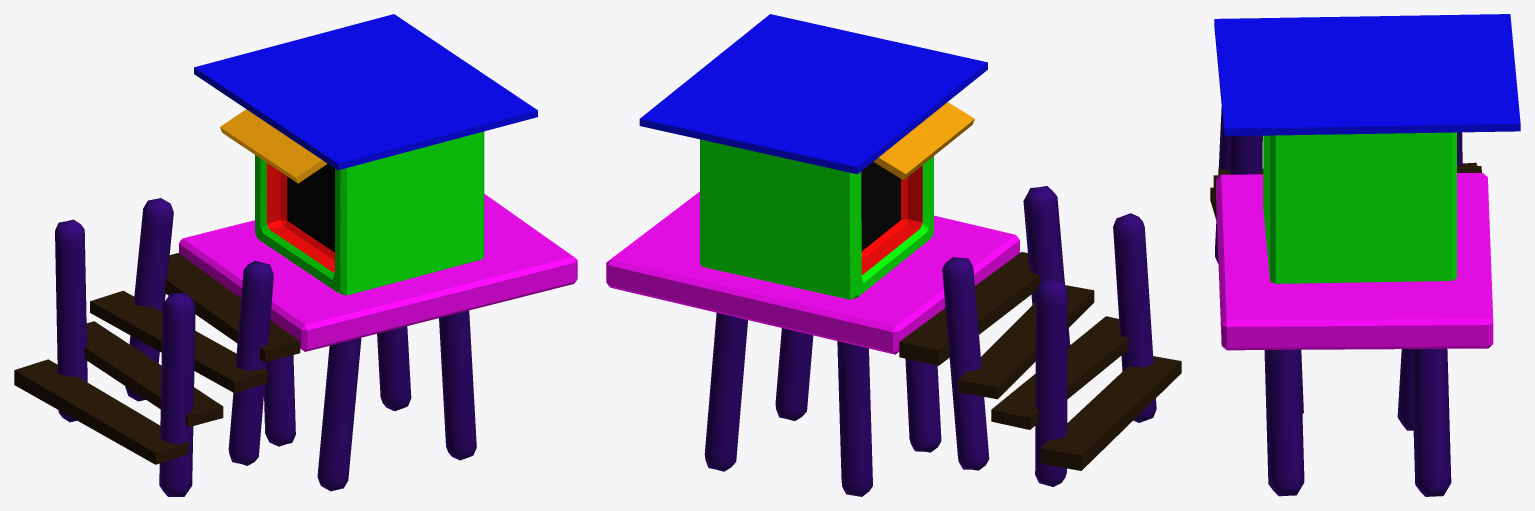
Rendered from GB_Village_House_06.fbx.
The picture shows the model from 3 angles, left to right: view 1: azimuth 30°, elevation 25°; view 2: azimuth 150°, elevation 25°; view 3: azimuth 270°, elevation 25°; orthographic projection. The views are drawn at different scales.
Visible parts, largest first — view 1: GB_Village_House_06; view 2: GB_Village_House_06; view 3: GB_Village_House_06.
Boxes of the visible parts, x1,y1,x2,y2 form: GB_Village_House_06: (14,14,577,496); GB_Village_House_06: (606,14,1181,496); GB_Village_House_06: (1210,14,1520,496).
Bounding box in the file's own units: 146 × 111 × 79.17.
